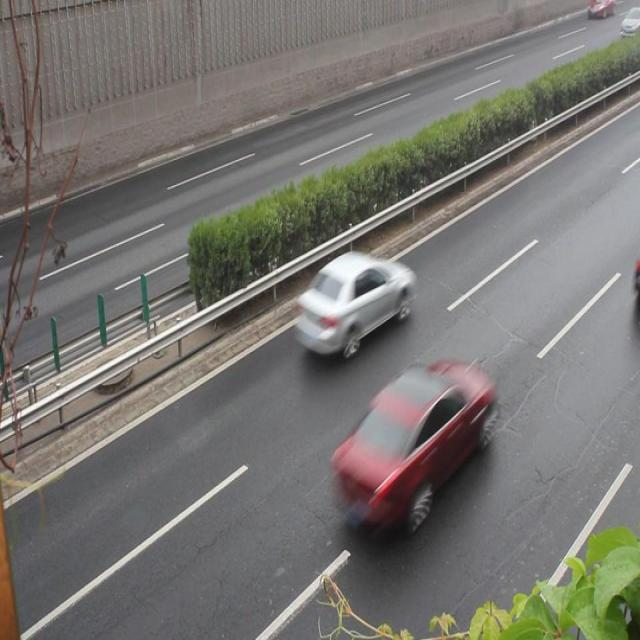car: (326, 356, 490, 532), (294, 248, 413, 356)
